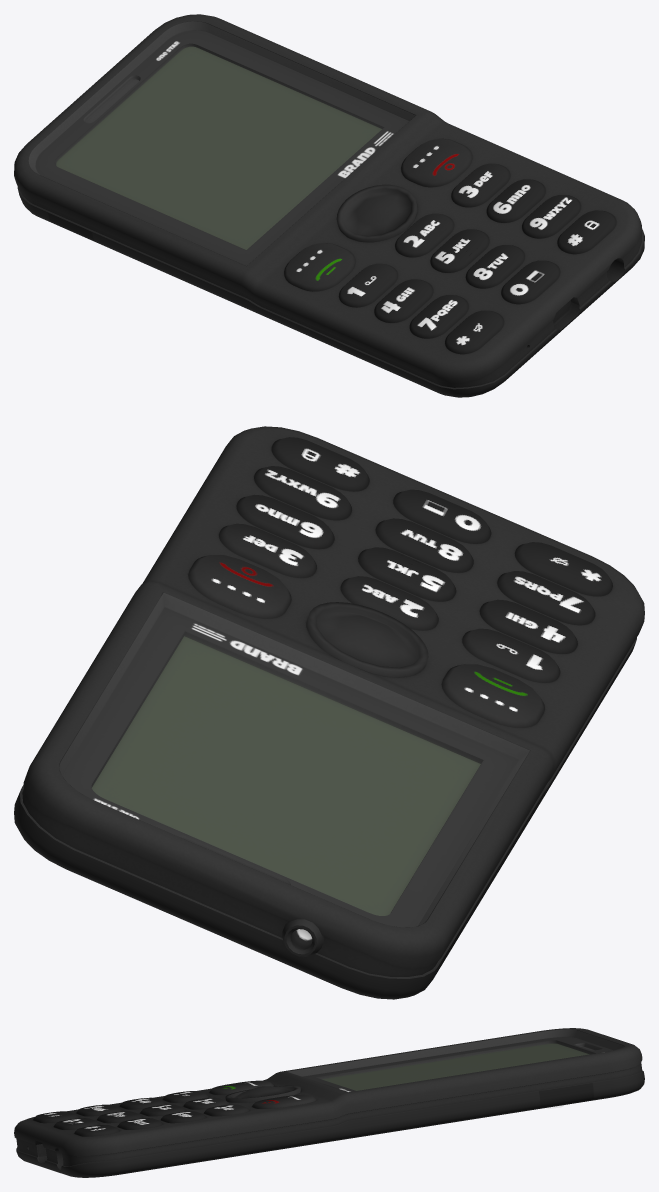
Rendered from phone.glb.
The picture shows the model from 3 angles, top to bottom: view 1: azimuth 30°, elevation 25°; view 2: azimuth 150°, elevation 25°; view 3: azimuth 270°, elevation 25°; orthographic projection. The views are drawn at different scales.
Parts seen in each view (by area): view 1: phone_low_16, buttonmiddle_low_14, buttonhaut001_low_12, buttonhaut_low_13, button0_low_0, buttondiez_low_10, button1_low_1, button3_low_3, button4_low_4, button7_low_7, button5_low_5, button6_low_6 (+4 smaller); view 2: phone_low_16, buttonmiddle_low_14, buttonhaut_low_13, buttonhaut001_low_12, buttondiez_low_10, button5_low_5, button7_low_7, buttonetoile_low_11, button0_low_0, button1_low_1, button6_low_6, button8_low_8 (+4 smaller); view 3: phone_low_16, buttonmiddle_low_14, buttonhaut001_low_12, buttonhaut_low_13, button3_low_3, button6_low_6, button9_low_9, buttondiez_low_10, button7_low_7, button8_low_8, button1_low_1, buttonetoile_low_11 (+4 smaller).
Boxes of the visible parts, x1=… form: phone_low_16: x1=14, y1=14, x2=644, y2=397; buttonmiddle_low_14: x1=336, y1=184, x2=417, y2=242; buttonhaut001_low_12: x1=401, y1=138, x2=472, y2=187; buttonhaut_low_13: x1=284, y1=243, x2=355, y2=291; button0_low_0: x1=501, y1=260, x2=560, y2=304; buttondiez_low_10: x1=557, y1=210, x2=616, y2=254; button1_low_1: x1=338, y1=263, x2=397, y2=307; button3_low_3: x1=451, y1=163, x2=510, y2=207; button4_low_4: x1=374, y1=279, x2=433, y2=322; button7_low_7: x1=409, y1=295, x2=468, y2=338; button5_low_5: x1=430, y1=229, x2=489, y2=272; button6_low_6: x1=486, y1=179, x2=545, y2=222; phone_low_16: x1=14, y1=426, x2=644, y2=999; buttonmiddle_low_14: x1=306, y1=602, x2=428, y2=677; buttonhaut_low_13: x1=441, y1=664, x2=544, y2=727; buttonhaut001_low_12: x1=188, y1=555, x2=291, y2=618; buttondiez_low_10: x1=271, y1=437, x2=369, y2=491; button5_low_5: x1=358, y1=547, x2=456, y2=601; button7_low_7: x1=497, y1=571, x2=595, y2=625; buttonetoile_low_11: x1=515, y1=542, x2=612, y2=596; button0_low_0: x1=393, y1=489, x2=491, y2=543; button1_low_1: x1=462, y1=628, x2=560, y2=682; button6_low_6: x1=236, y1=494, x2=334, y2=549; button8_low_8: x1=375, y1=518, x2=473, y2=572; phone_low_16: x1=14, y1=1028, x2=644, y2=1177; buttonmiddle_low_14: x1=225, y1=1085, x2=300, y2=1102; buttonhaut001_low_12: x1=252, y1=1094, x2=316, y2=1108; buttonhaut_low_13: x1=209, y1=1080, x2=273, y2=1094; button3_low_3: x1=204, y1=1104, x2=249, y2=1116; button6_low_6: x1=160, y1=1111, x2=206, y2=1123; button9_low_9: x1=117, y1=1118, x2=163, y2=1129; buttondiez_low_10: x1=74, y1=1125, x2=119, y2=1136; button7_low_7: x1=76, y1=1104, x2=122, y2=1116; button8_low_8: x1=97, y1=1111, x2=142, y2=1123; button1_low_1: x1=162, y1=1091, x2=208, y2=1102; buttonetoile_low_11: x1=33, y1=1111, x2=78, y2=1123.
Bounding box in the file's own units: 0.6144 × 0.2178 × 0.9595.
Materials: 2 (1 with a texture image).
